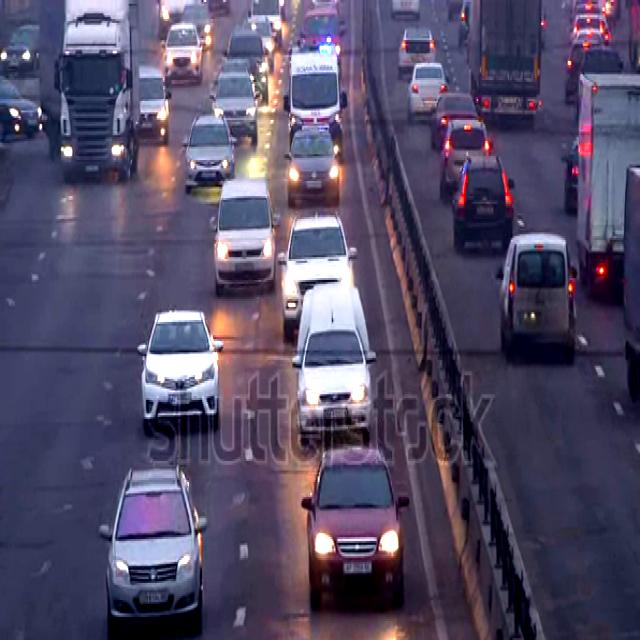ambulance: (284, 42, 344, 164)
